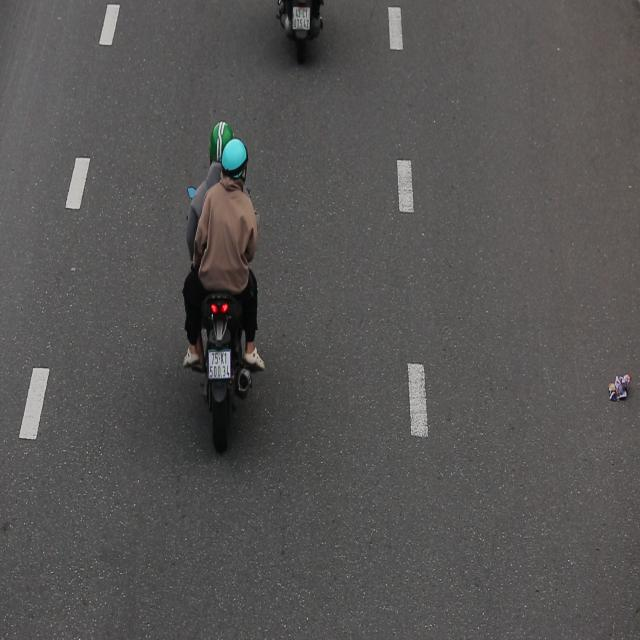motorbike: (180, 108, 268, 451)
